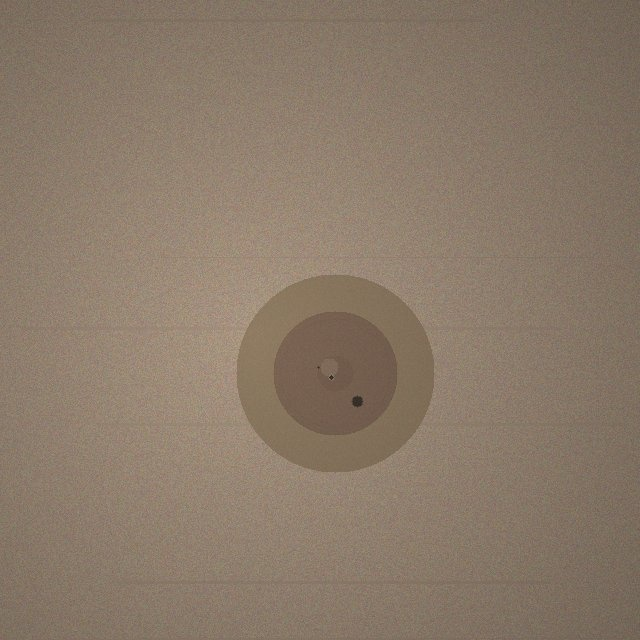shrinkage: (236, 274, 434, 472)
